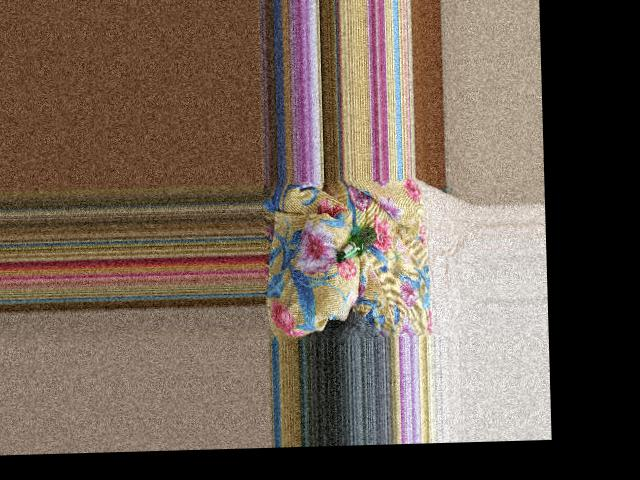beer: (334, 226, 376, 262)
